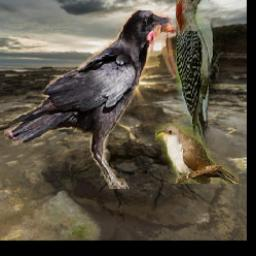Crow: (5, 3, 189, 190)
Cuckoo: (156, 124, 240, 185)
Woodpecker: (176, 0, 227, 153)
